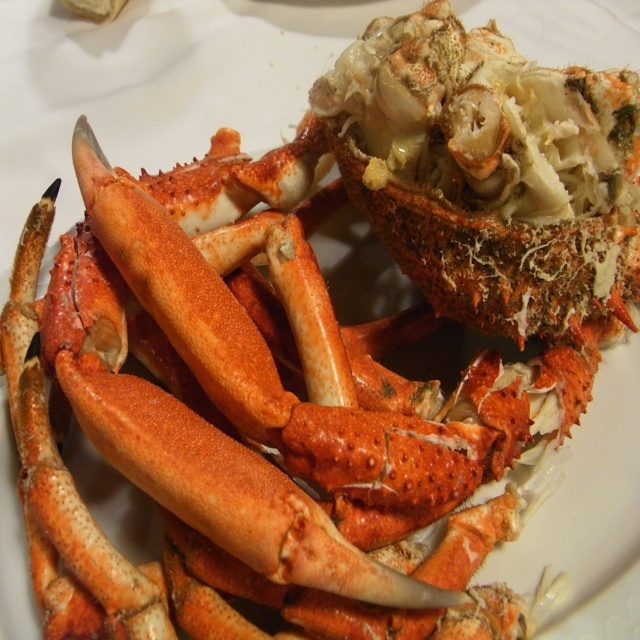Crab: (0, 0, 636, 639)
